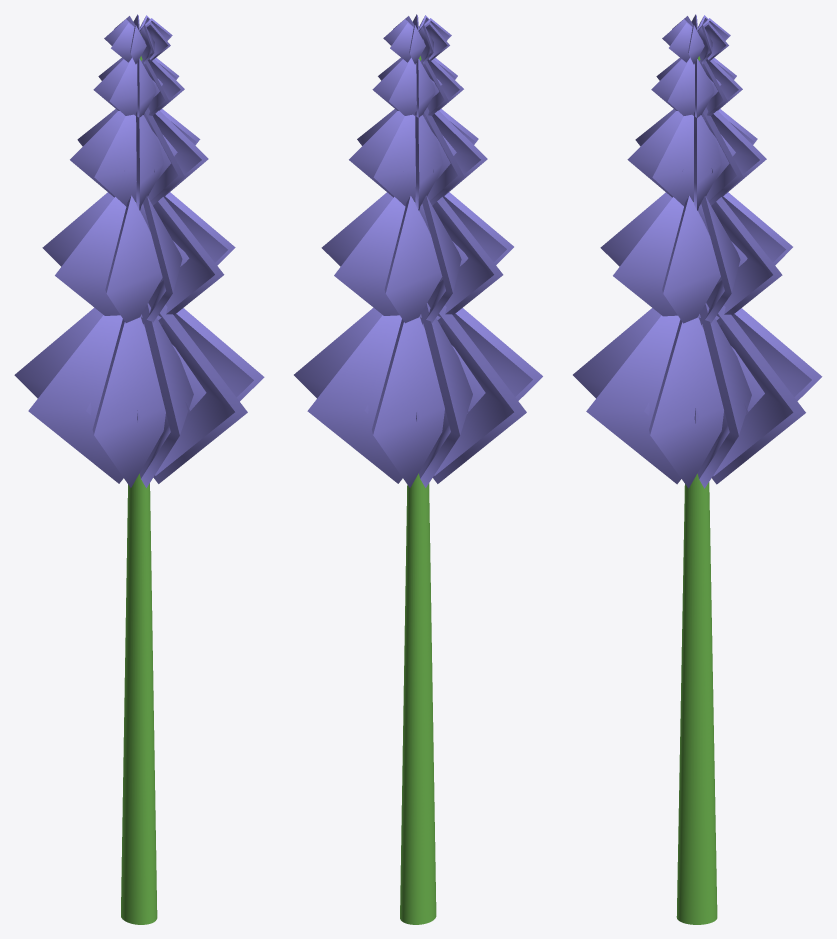
Rendered from WaterIslandLavender.fbx.
The picture shows the model from 3 angles, left to right: view 1: azimuth 30°, elevation 25°; view 2: azimuth 150°, elevation 25°; view 3: azimuth 270°, elevation 25°; orthographic projection.
Parts seen in each view (by area): view 1: Water_Island_Lavender; view 2: Water_Island_Lavender; view 3: Water_Island_Lavender.
Part boxes in pixels (x1=…): Water_Island_Lavender: x1=14, y1=14, x2=264, y2=924; Water_Island_Lavender: x1=294, y1=14, x2=542, y2=924; Water_Island_Lavender: x1=573, y1=14, x2=822, y2=924.
Bounding box in the file's own units: 86.46 × 347 × 87.52.
Materials: 1 (1 with a texture image).
